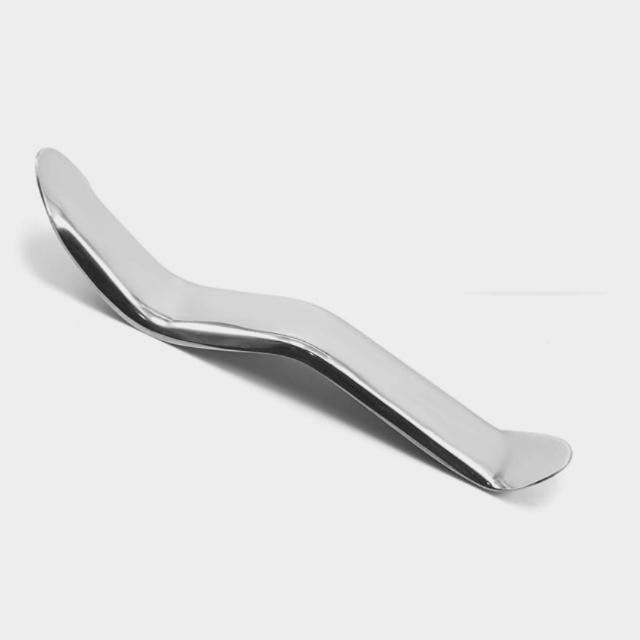separador: (33, 148, 575, 498)
